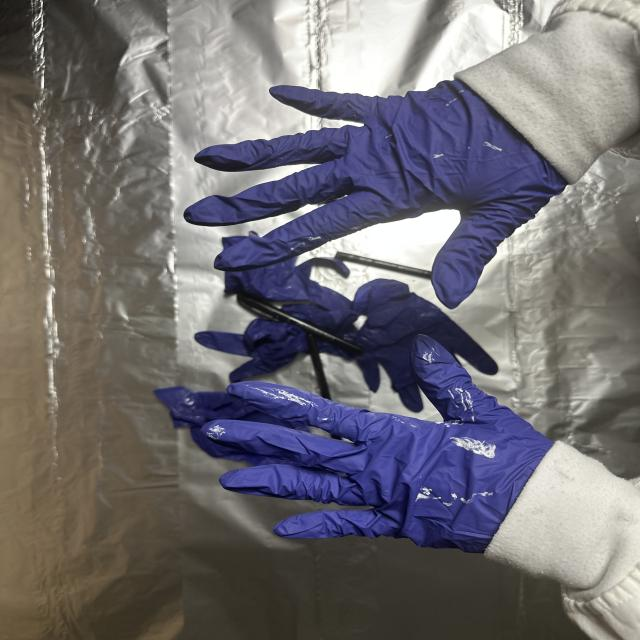gloves_contaminated: (185, 81, 566, 308), (202, 335, 553, 553)
